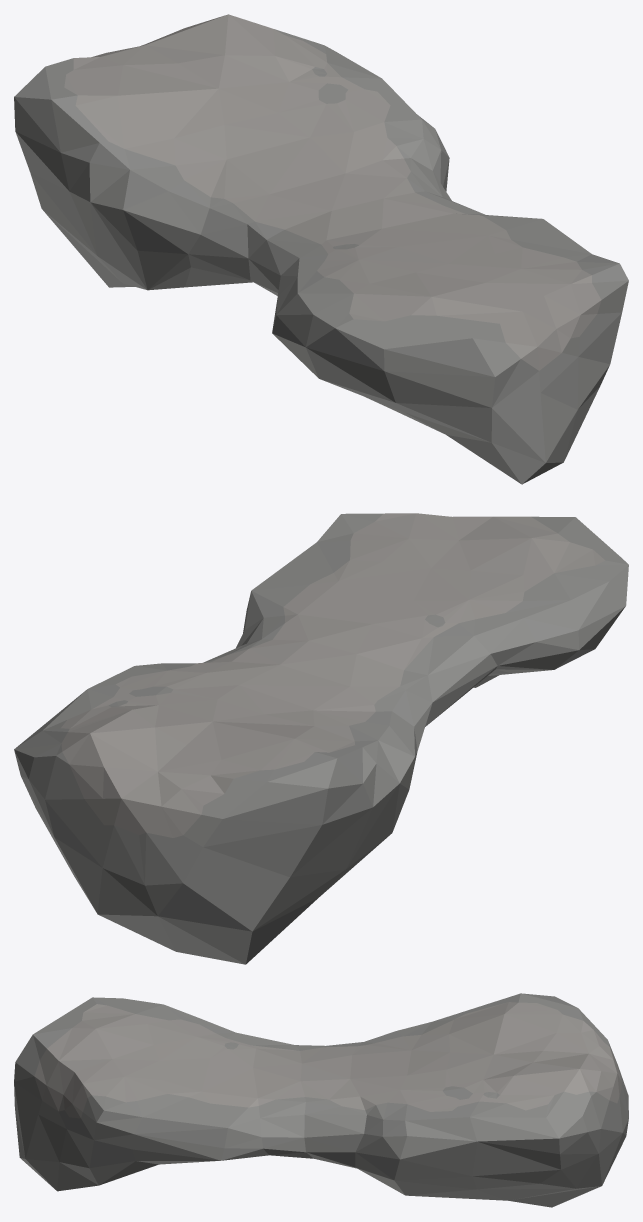
The model's file is Cavern_Floor_Narrow_Bridge_Sml-01.fbx.
3 views of the same model, one above another, from view 1: azimuth 30°, elevation 25°; view 2: azimuth 150°, elevation 25°; view 3: azimuth 270°, elevation 25° (orthographic). The views are drawn at different scales.
Parts seen in each view (by area): view 1: Cavern_Floor_Narrow_Bridge_Sml-01; view 2: Cavern_Floor_Narrow_Bridge_Sml-01; view 3: Cavern_Floor_Narrow_Bridge_Sml-01.
Part boxes in pixels (box(x1,y1,x2,y2)): Cavern_Floor_Narrow_Bridge_Sml-01: box(14, 14, 628, 484); Cavern_Floor_Narrow_Bridge_Sml-01: box(14, 513, 628, 964); Cavern_Floor_Narrow_Bridge_Sml-01: box(14, 993, 628, 1207).
Bounding box in the file's own units: 605 × 384 × 1306.
Materials: 1 (1 with a texture image).
